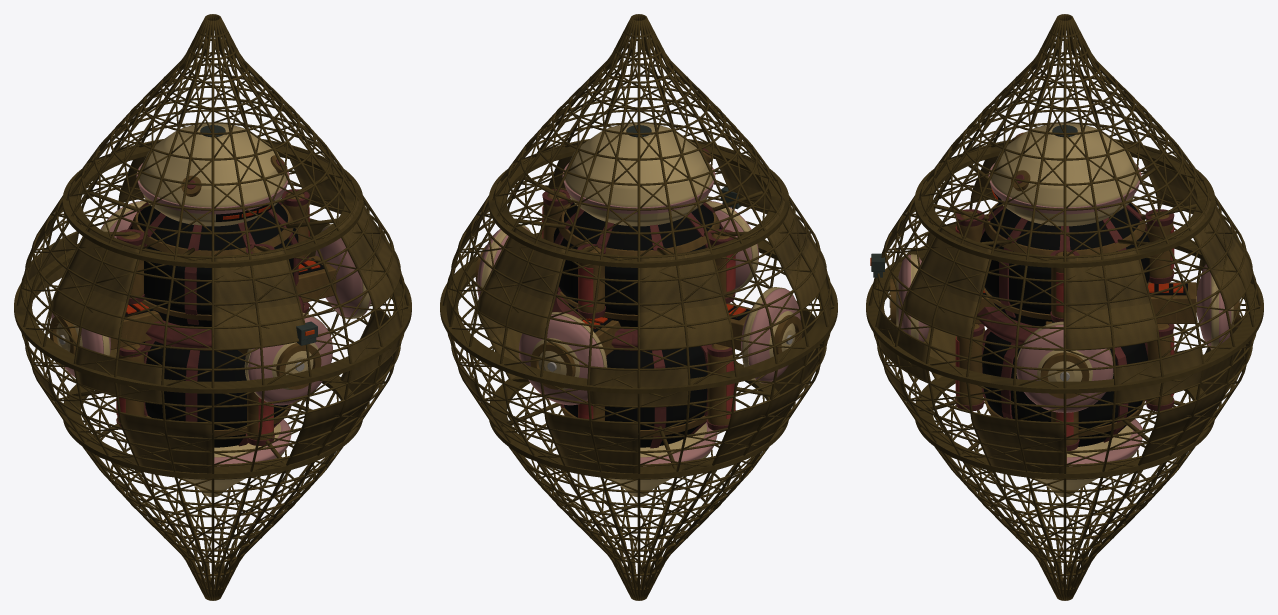
The picture shows the model from 3 angles, left to right: view 1: azimuth 30°, elevation 25°; view 2: azimuth 150°, elevation 25°; view 3: azimuth 270°, elevation 25°; orthographic projection.
Visible parts, largest first — view 1: Construction outer longitudinal scaffold ribs, Construction outer horizontal scaffold hoops, Construction alternating diagonal lattice, SkyMech expanded axial pressure core, SkyMech upper gold dome, Construction temporary shield panel 8, Construction temporary annular work deck 1, Construction temporary annular work deck 2, Construction temporary shield panel 6, Construction temporary shield panel 7, Construction temporary annular work deck 0, Construction temporary shield panel 10 (+22 smaller); view 2: Construction outer longitudinal scaffold ribs, Construction outer horizontal scaffold hoops, Construction alternating diagonal lattice, SkyMech upper gold dome, SkyMech expanded axial pressure core, Construction temporary shield panel 4, Construction temporary annular work deck 1, Construction temporary annular work deck 2, Construction temporary shield panel 2, Construction temporary shield panel 3, Construction temporary annular work deck 0, Construction temporary waist cover 1 (+22 smaller); view 3: Construction outer longitudinal scaffold ribs, Construction outer horizontal scaffold hoops, Construction alternating diagonal lattice, SkyMech expanded axial pressure core, SkyMech upper gold dome, Construction temporary shield panel 0, Construction temporary annular work deck 1, Construction temporary annular work deck 2, Construction temporary shield panel 10, Construction temporary shield panel 11, Construction temporary annular work deck 0, SkyMech rose radial module 0 (+23 smaller).
Boxes of the visible parts, bbox=[...] form: Construction outer longitudinal scaffold ribs: bbox=[16, 14, 409, 600]; Construction outer horizontal scaffold hoops: bbox=[20, 31, 405, 590]; Construction alternating diagonal lattice: bbox=[21, 31, 408, 588]; SkyMech expanded axial pressure core: bbox=[130, 203, 298, 447]; SkyMech upper gold dome: bbox=[139, 123, 286, 226]; Construction temporary shield panel 8: bbox=[213, 250, 303, 348]; Construction temporary annular work deck 1: bbox=[14, 236, 411, 393]; Construction temporary annular work deck 2: bbox=[62, 142, 363, 267]; Construction temporary shield panel 6: bbox=[51, 228, 139, 337]; Construction temporary shield panel 7: bbox=[120, 414, 212, 478]; Construction temporary annular work deck 0: bbox=[63, 376, 362, 478]; Construction temporary shield panel 10: bbox=[338, 197, 399, 308]; Construction outer longitudinal scaffold ribs: bbox=[442, 14, 835, 600]; Construction outer horizontal scaffold hoops: bbox=[446, 31, 831, 590]; Construction alternating diagonal lattice: bbox=[447, 31, 834, 588]; SkyMech upper gold dome: bbox=[565, 123, 712, 226]; SkyMech expanded axial pressure core: bbox=[553, 203, 721, 447]; Construction temporary shield panel 4: bbox=[639, 250, 731, 348]; Construction temporary annular work deck 1: bbox=[440, 232, 837, 393]; Construction temporary annular work deck 2: bbox=[488, 142, 789, 267]; Construction temporary shield panel 2: bbox=[477, 228, 565, 337]; Construction temporary shield panel 3: bbox=[546, 414, 638, 478]; Construction temporary annular work deck 0: bbox=[489, 363, 788, 478]; Construction temporary waist cover 1: bbox=[589, 368, 688, 406]; Construction outer longitudinal scaffold ribs: bbox=[868, 14, 1261, 600]; Construction outer horizontal scaffold hoops: bbox=[872, 31, 1257, 590]; Construction alternating diagonal lattice: bbox=[873, 31, 1260, 588]; SkyMech expanded axial pressure core: bbox=[980, 203, 1149, 446]; SkyMech upper gold dome: bbox=[991, 123, 1138, 226]; Construction temporary shield panel 0: bbox=[1065, 250, 1157, 348]; Construction temporary annular work deck 1: bbox=[866, 240, 1263, 393]; Construction temporary annular work deck 2: bbox=[914, 142, 1215, 267]; Construction temporary shield panel 10: bbox=[903, 228, 991, 337]; Construction temporary shield panel 11: bbox=[972, 414, 1064, 478]; Construction temporary annular work deck 0: bbox=[915, 376, 1214, 478]; SkyMech rose radial module 0: bbox=[1016, 324, 1113, 412].
Size of the model in its own units: 4.11 by 6.61 by 4.11.
Materials: 13 (11 with a texture image).
